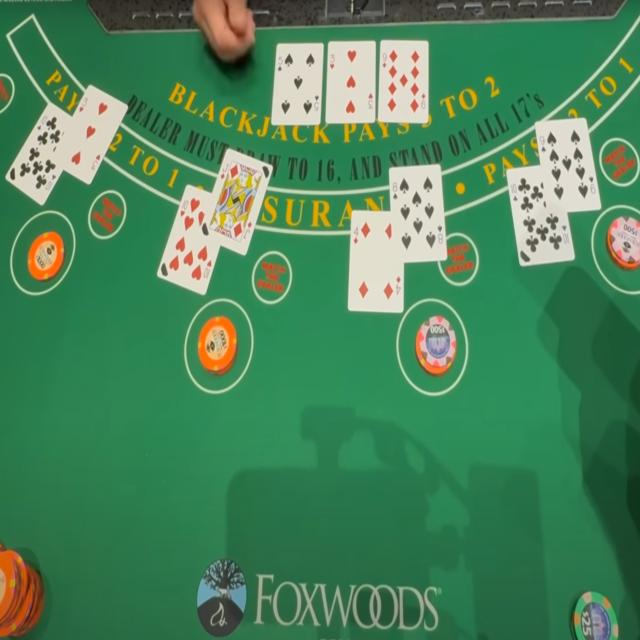10: (181, 198, 189, 211), (40, 113, 48, 125), (510, 182, 517, 195)
3: (81, 95, 89, 108), (329, 53, 336, 64)
4: (353, 225, 360, 238)
5: (278, 54, 284, 66)
8: (392, 181, 398, 193)
9: (538, 134, 546, 146), (382, 51, 388, 63)
J: (222, 162, 229, 173)
